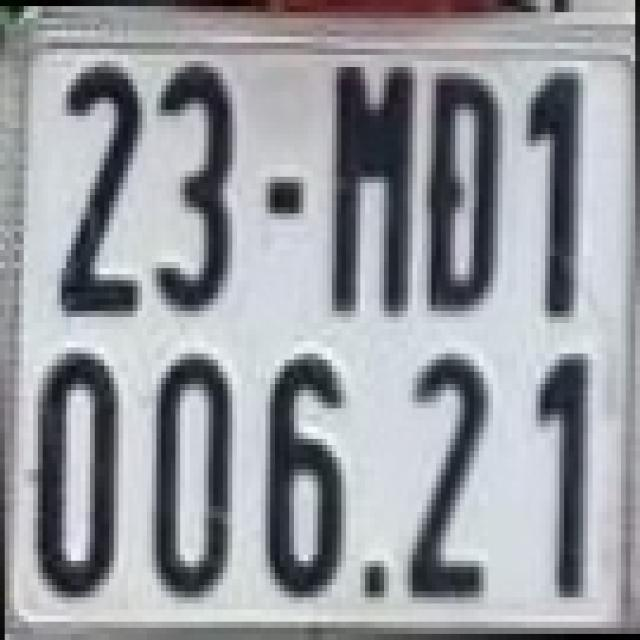0: (31, 348, 121, 598), (149, 350, 235, 594)
1: (531, 353, 597, 598), (524, 70, 585, 314)
2: (54, 61, 144, 317), (405, 350, 491, 600)
3: (154, 61, 235, 311)
6: (263, 350, 349, 594)
D: (422, 70, 502, 314)
M: (325, 55, 415, 317)
